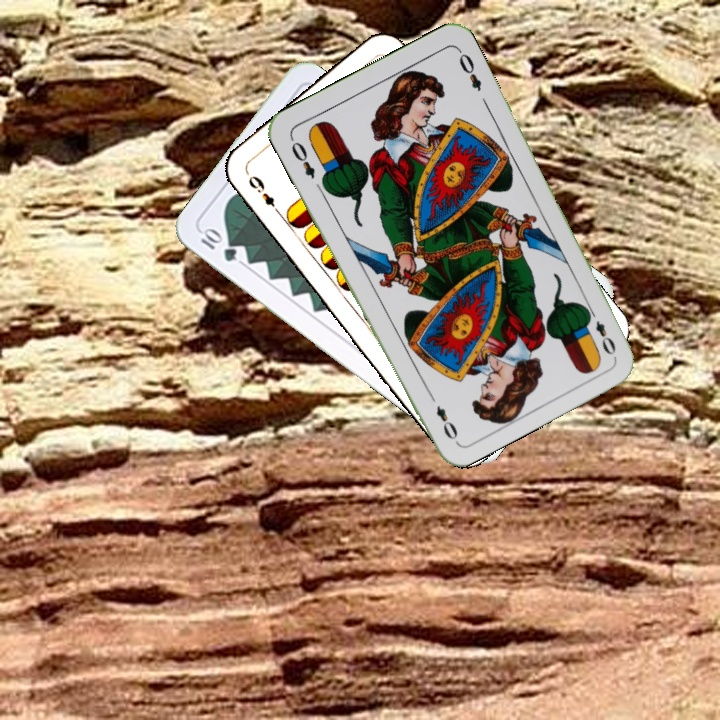E9: (244, 171, 284, 218)
EO: (582, 304, 619, 358), (287, 137, 318, 182)
G10: (196, 223, 240, 265)
